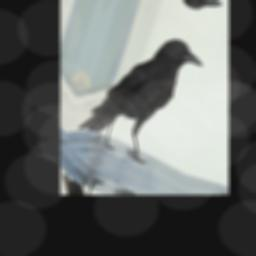Crow: (75, 13, 209, 176)
